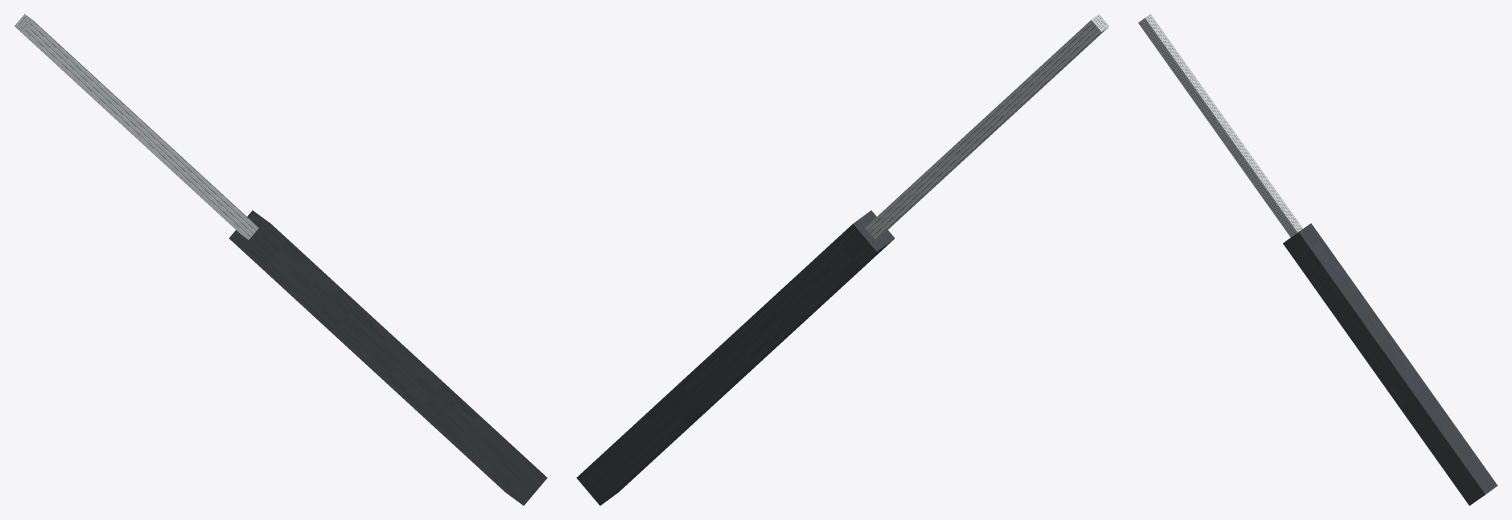
File: single_leaf_2_strut_a.obj
3 views of the same model, side by side, from view 1: azimuth 30°, elevation 25°; view 2: azimuth 150°, elevation 25°; view 3: azimuth 330°, elevation 25° (orthographic). The views are drawn at different scales.
Parts seen in each view (by area): view 1: single_leaf_2_strut_a; view 2: single_leaf_2_strut_a; view 3: single_leaf_2_strut_a.
Part boxes in pixels (x1,y1,x2,y2): single_leaf_2_strut_a: [14, 14, 547, 505]; single_leaf_2_strut_a: [576, 14, 1109, 505]; single_leaf_2_strut_a: [1138, 14, 1497, 505].
Size of the model in its own units: 0.8142 by 0.899 by 0.05.
